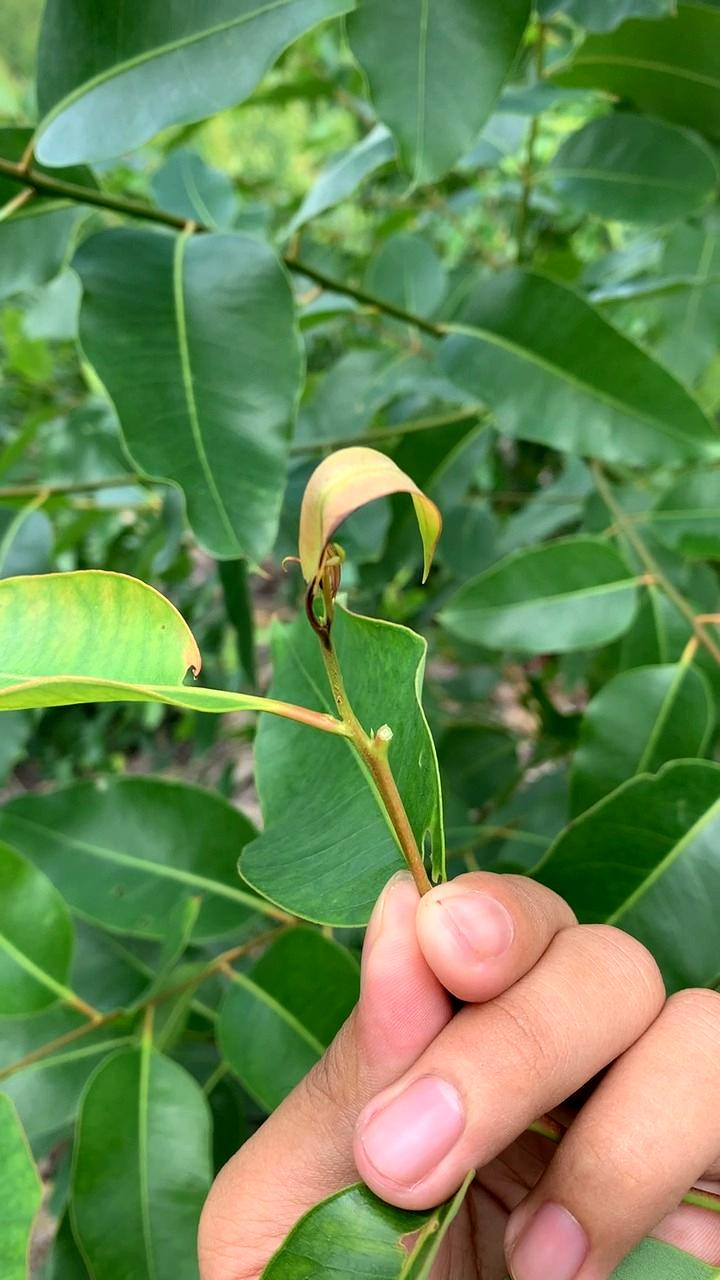Helopeltis-Withered Sprout: (266, 430, 443, 640)
